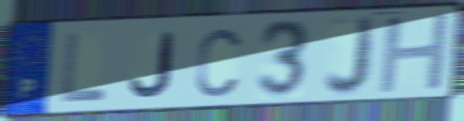3: (255, 17, 312, 101)
C: (193, 25, 244, 100)
H: (376, 10, 454, 97)
J: (322, 14, 380, 98), (127, 30, 177, 100)
L: (58, 31, 109, 106)
